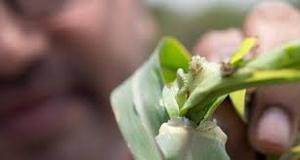fallarmy_worm: (219, 58, 252, 82)
